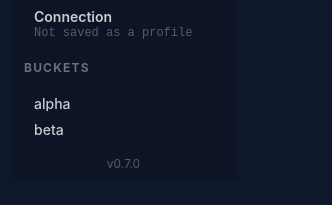
Test: Sidebar › bucket list › selects a bucket and resets navigation
Click the button "alpha" at (118, 104), box [12,90,223,116]
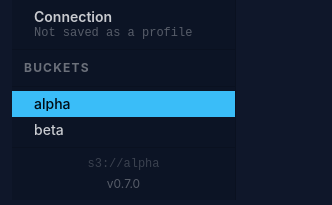
Check: the text "alpha" is shown, box [34,96,70,110]
Check: the text "s3://alpha" is shown, box [88,156,160,170]
